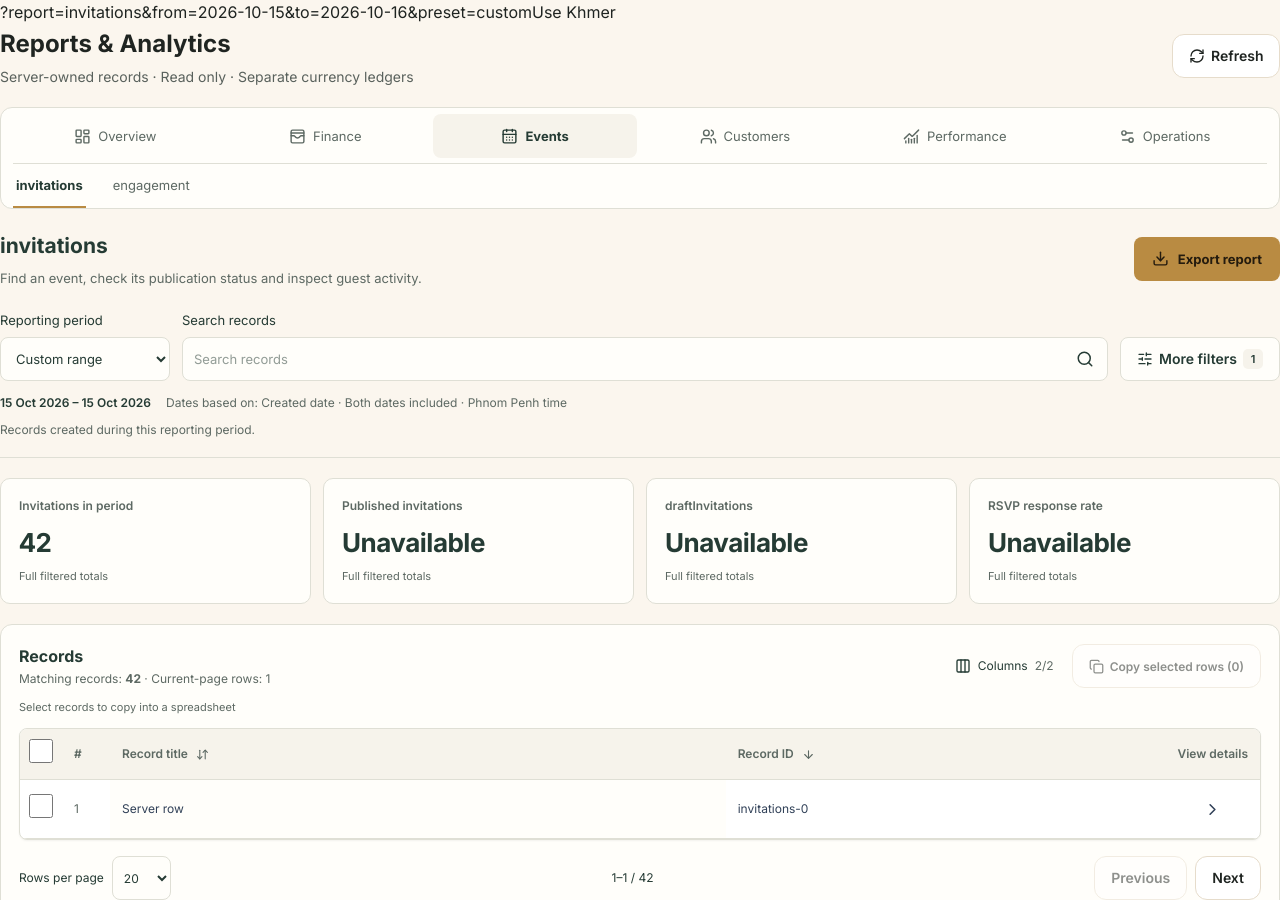
Test: active Reports route › removes stale records if a refresh revokes administrator access
This screenshot has width=1280, height=900.
Expected: the text "Server row" is shown, [122,801,184,816]
Click the button "Refresh".
click(1226, 56)  # box [1172,34,1279,78]
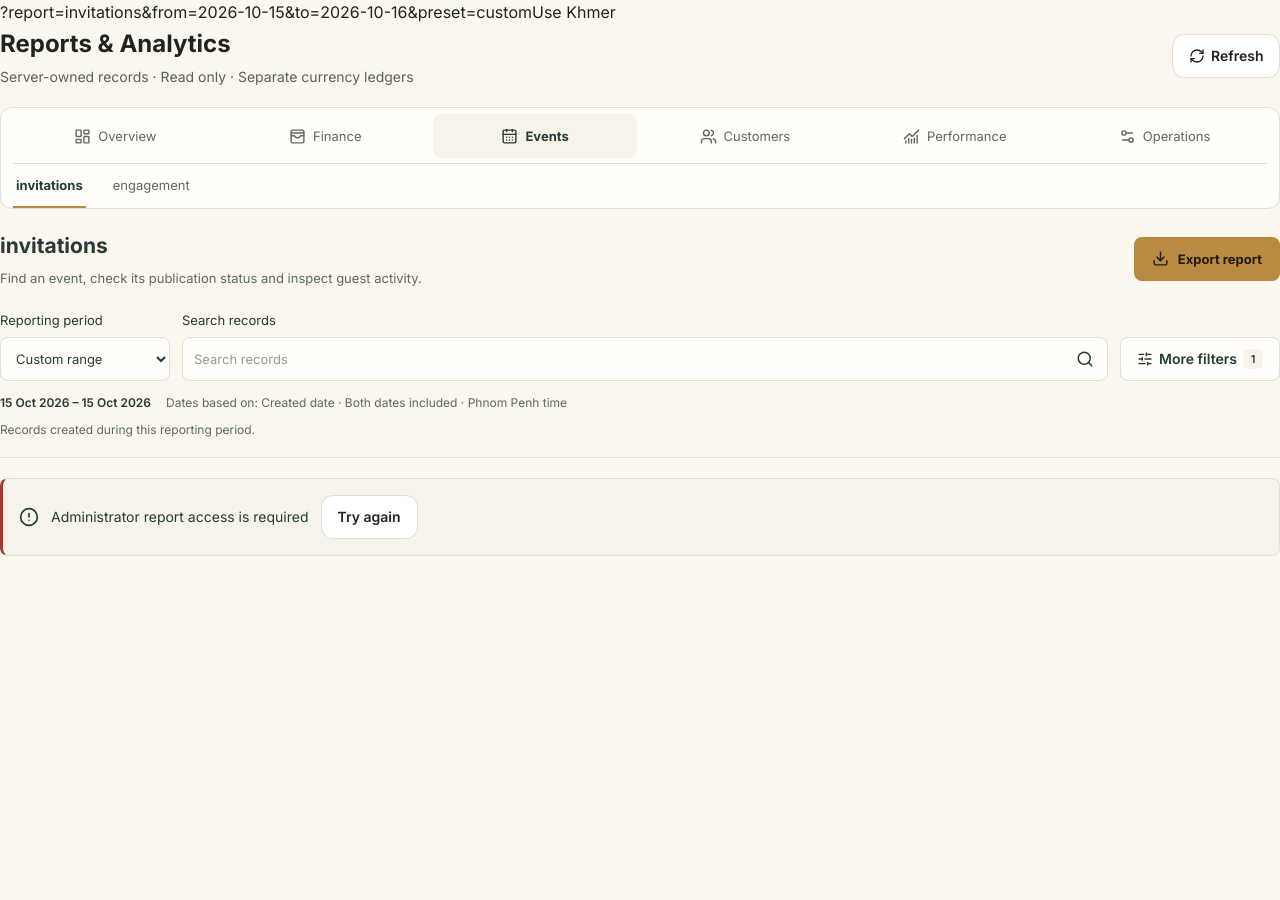
Expected: the text "Administrator report access is required" is shown, [51,508,308,525]
Expected: the text "Server row" is gone
